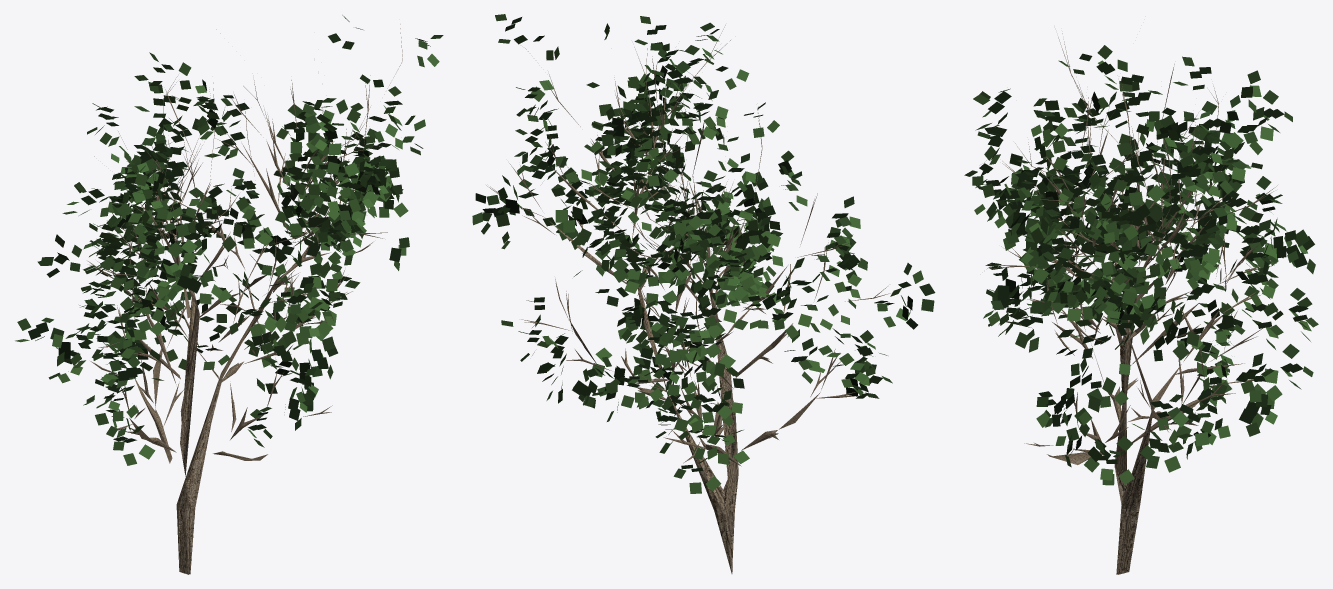
Rendered from treeDLOD1.fbx.
3 views of the same model, side by side, from view 1: azimuth 30°, elevation 25°; view 2: azimuth 150°, elevation 25°; view 3: azimuth 270°, elevation 25° (orthographic). The views are drawn at different scales.
Parts seen in each view (by area): view 1: Tree_LOD_3; view 2: Tree_LOD_3; view 3: Tree_LOD_3.
Part boxes in pixels (x1=…): Tree_LOD_3: x1=15, y1=15, x2=443, y2=574; Tree_LOD_3: x1=472, y1=14, x2=935, y2=573; Tree_LOD_3: x1=964, y1=33, x2=1318, y2=574.
Size of the model in its own units: 829 by 1009 by 558.
